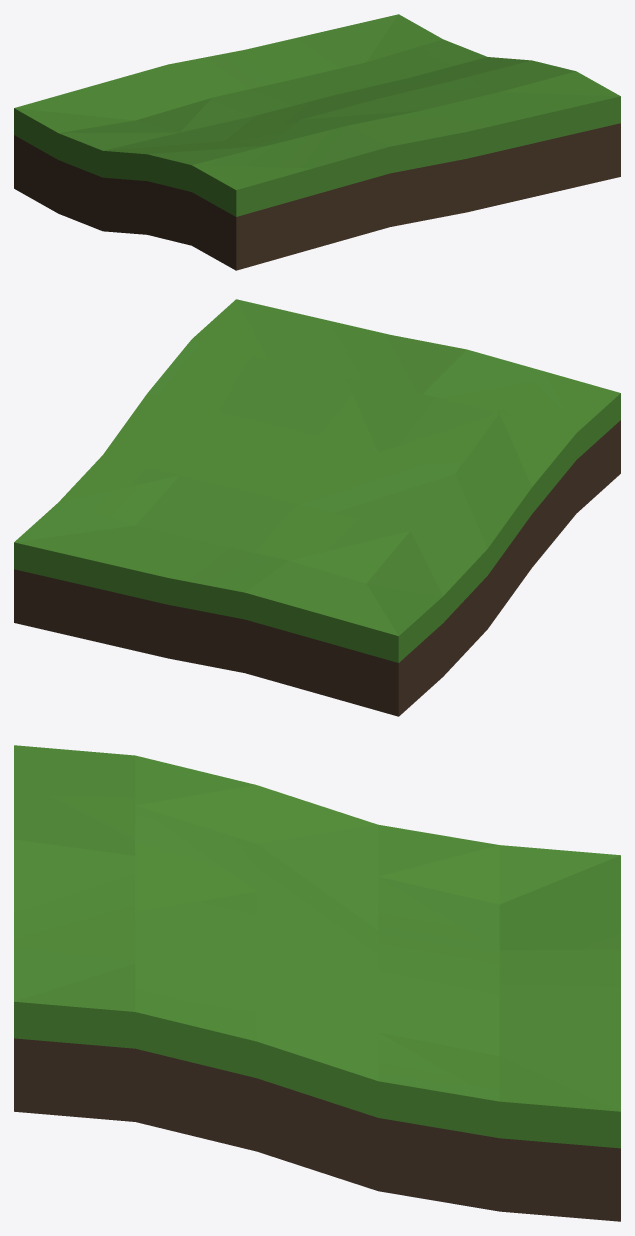
File: terrains_terrain-world-slope1.fbx
3 renders of one model, top to bottom at view 1: azimuth 30°, elevation 25°; view 2: azimuth 150°, elevation 25°; view 3: azimuth 270°, elevation 25°, orthographic. The views are drawn at different scales.
Visible parts, largest first — view 1: terrains_terrain_world_slope1; view 2: terrains_terrain_world_slope1; view 3: terrains_terrain_world_slope1.
Part boxes in pixels (box(x1,y1,x2,y2)): terrains_terrain_world_slope1: box(14, 14, 620, 270); terrains_terrain_world_slope1: box(14, 299, 620, 716); terrains_terrain_world_slope1: box(14, 745, 620, 1221).
Size of the model in its own units: 200 by 83 by 200.
